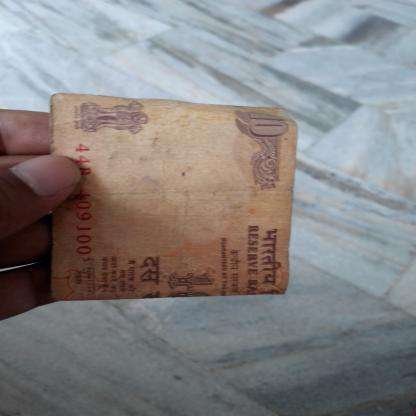Old10Front: (47, 92, 299, 300)
